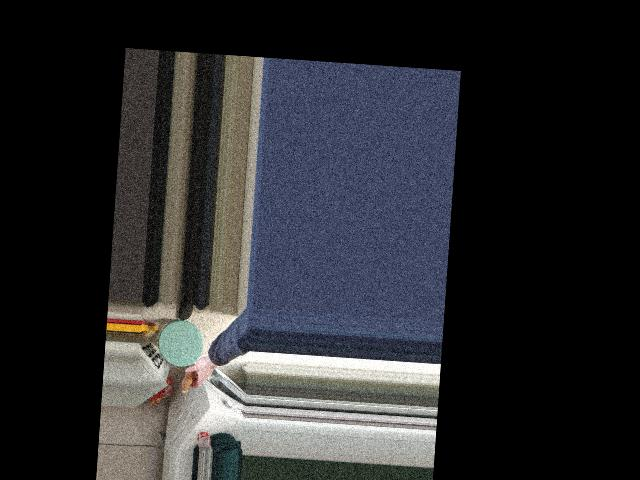sweet_potato: (181, 356, 204, 393)
